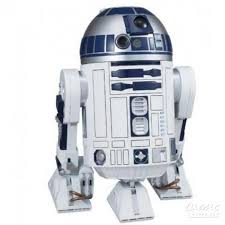r2d2: (48, 6, 192, 222)
